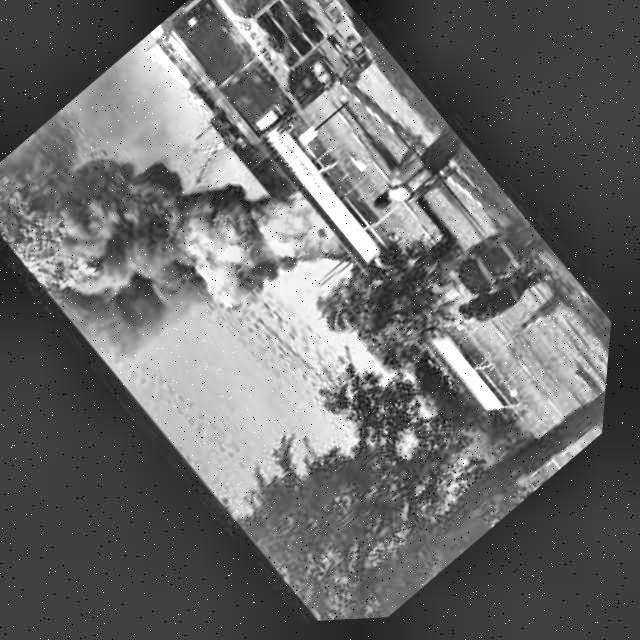Fire: (140, 141, 356, 352)
Smoke: (0, 81, 255, 376)
